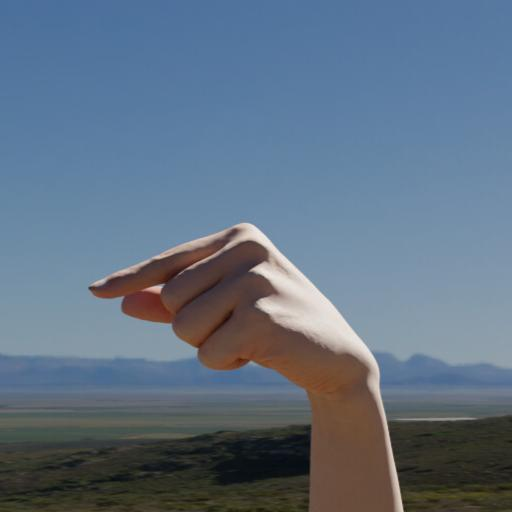G: (87, 213, 407, 419)
